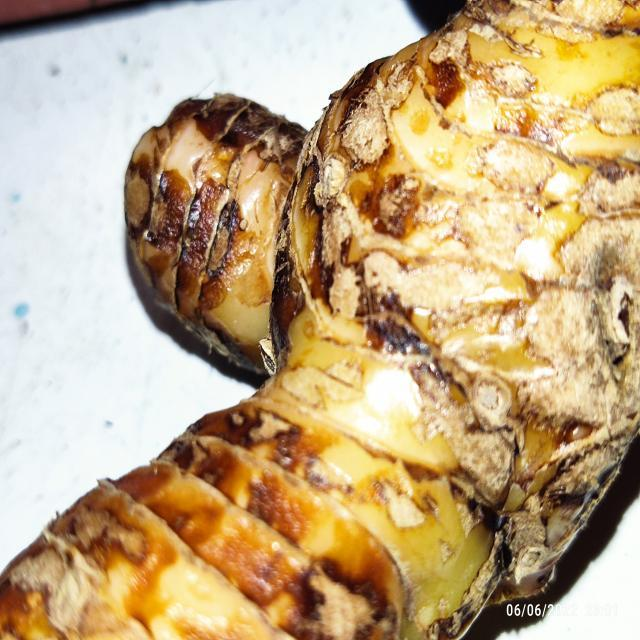ginger: (2, 23, 640, 612)
